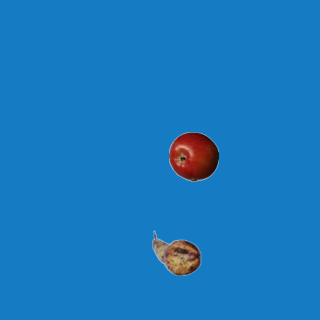Apple Braeburn: (168, 131, 218, 181)
Pear Abate: (151, 228, 201, 278)
